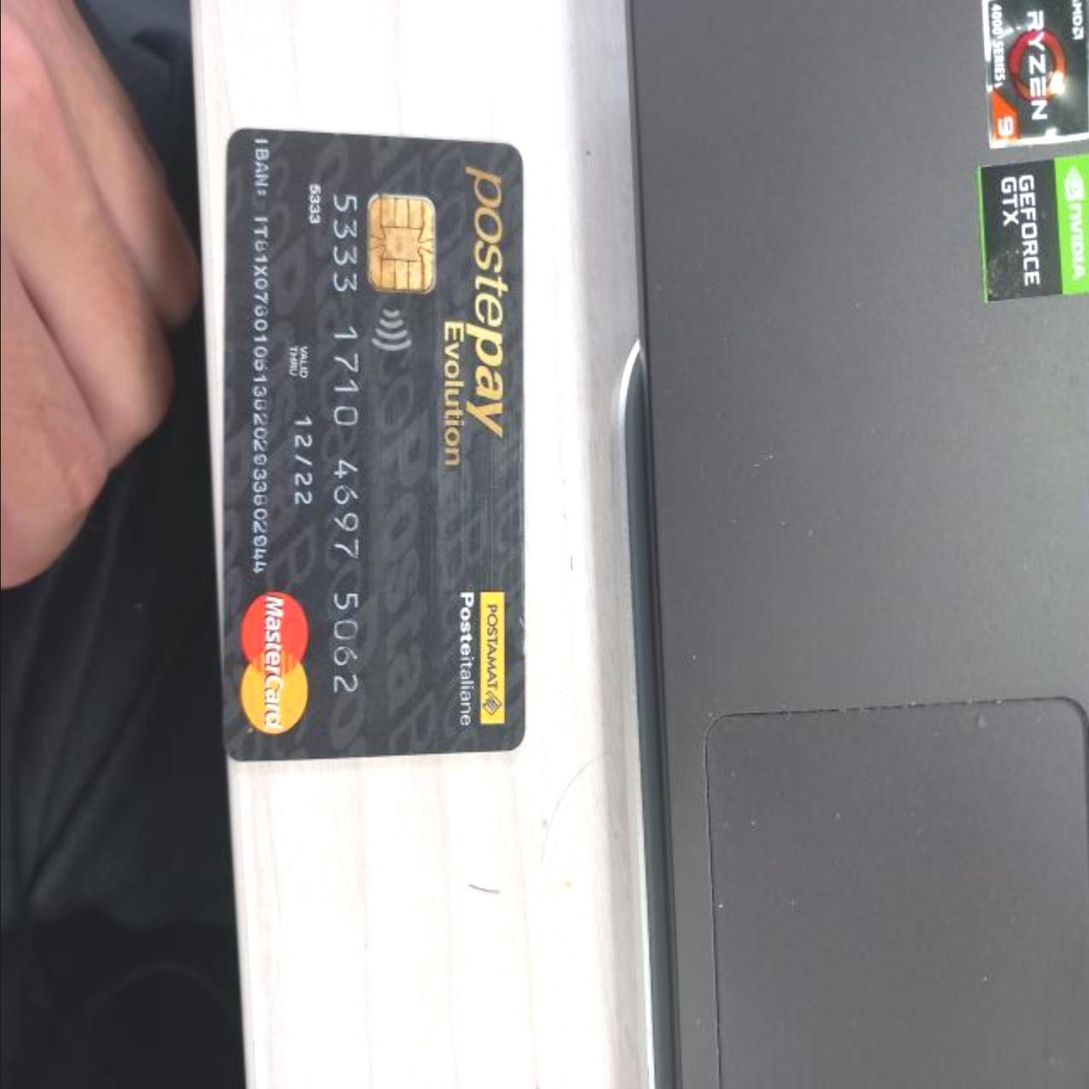credit_card: (208, 119, 531, 773)
